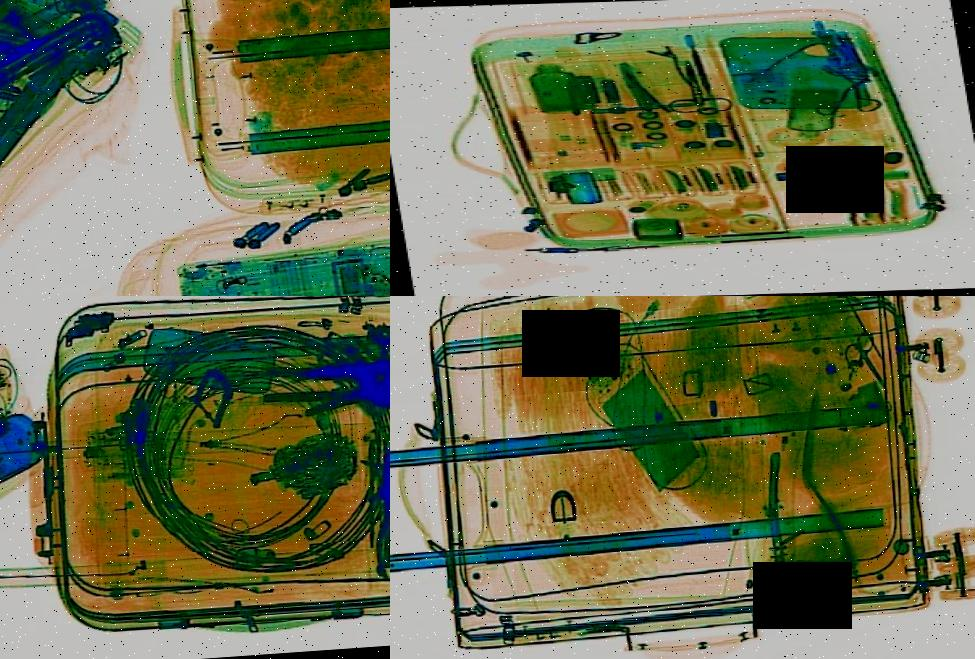Pliers: (367, 475, 390, 577)
Scissors: (651, 58, 733, 113), (831, 326, 899, 392)
Wrench: (369, 516, 390, 575)
